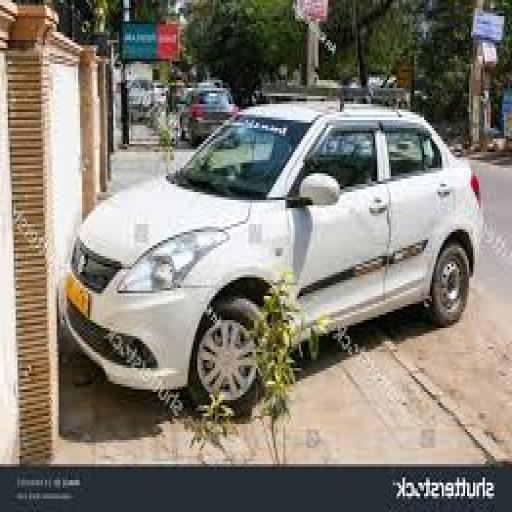License: (55, 270, 96, 314)
